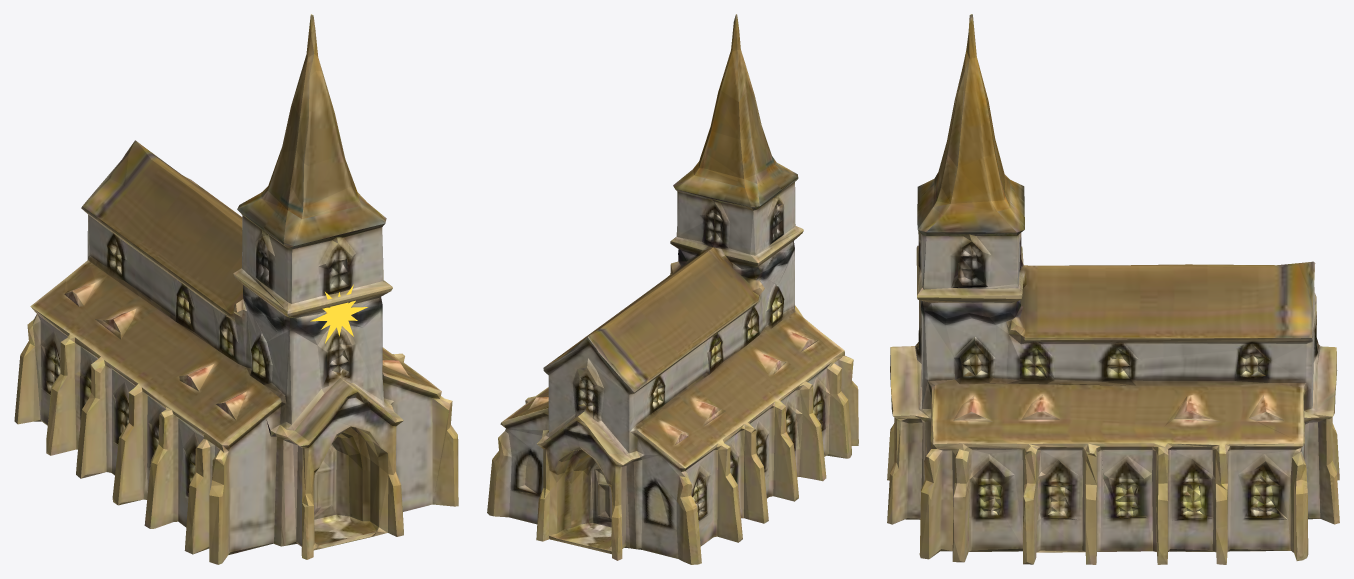
Rendered from chapel_dawn_throne_lod1.glb.
3 renders of one model, left to right at view 1: azimuth 30°, elevation 25°; view 2: azimuth 150°, elevation 25°; view 3: azimuth 270°, elevation 25°, orthographic. The views are drawn at different scales.
Visible parts, largest first — view 1: ChapelDawnThrone, SunEmblem; view 2: ChapelDawnThrone; view 3: ChapelDawnThrone.
Part boxes in pixels (box(x1,y1,x2,y2)): ChapelDawnThrone: box(14, 14, 458, 564); SunEmblem: box(310, 284, 367, 343); ChapelDawnThrone: box(487, 14, 858, 564); ChapelDawnThrone: box(887, 14, 1339, 564).
Size of the model in its own units: 7.88 by 13.95 by 11.72.
Materials: 2 (1 with a texture image).
